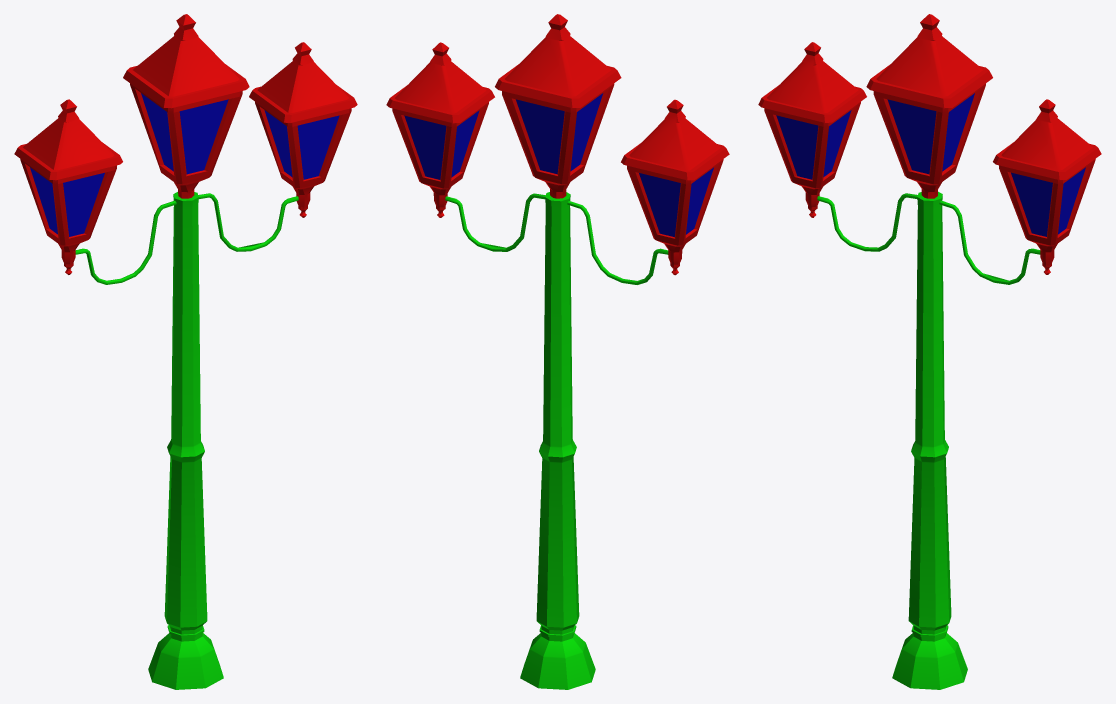
The model's file is BigLantern.fbx.
3 renders of one model, left to right at view 1: azimuth 30°, elevation 25°; view 2: azimuth 150°, elevation 25°; view 3: azimuth 330°, elevation 25°, orthographic.
Visible parts, largest first — view 1: MainLamp_001; view 2: MainLamp_001; view 3: MainLamp_001.
Part boxes in pixels (x1=…): MainLamp_001: x1=14, y1=14, x2=357, y2=689; MainLamp_001: x1=386, y1=14, x2=729, y2=689; MainLamp_001: x1=758, y1=14, x2=1101, y2=689.
Bounding box in the file's own units: 172 × 351 × 43.88.
